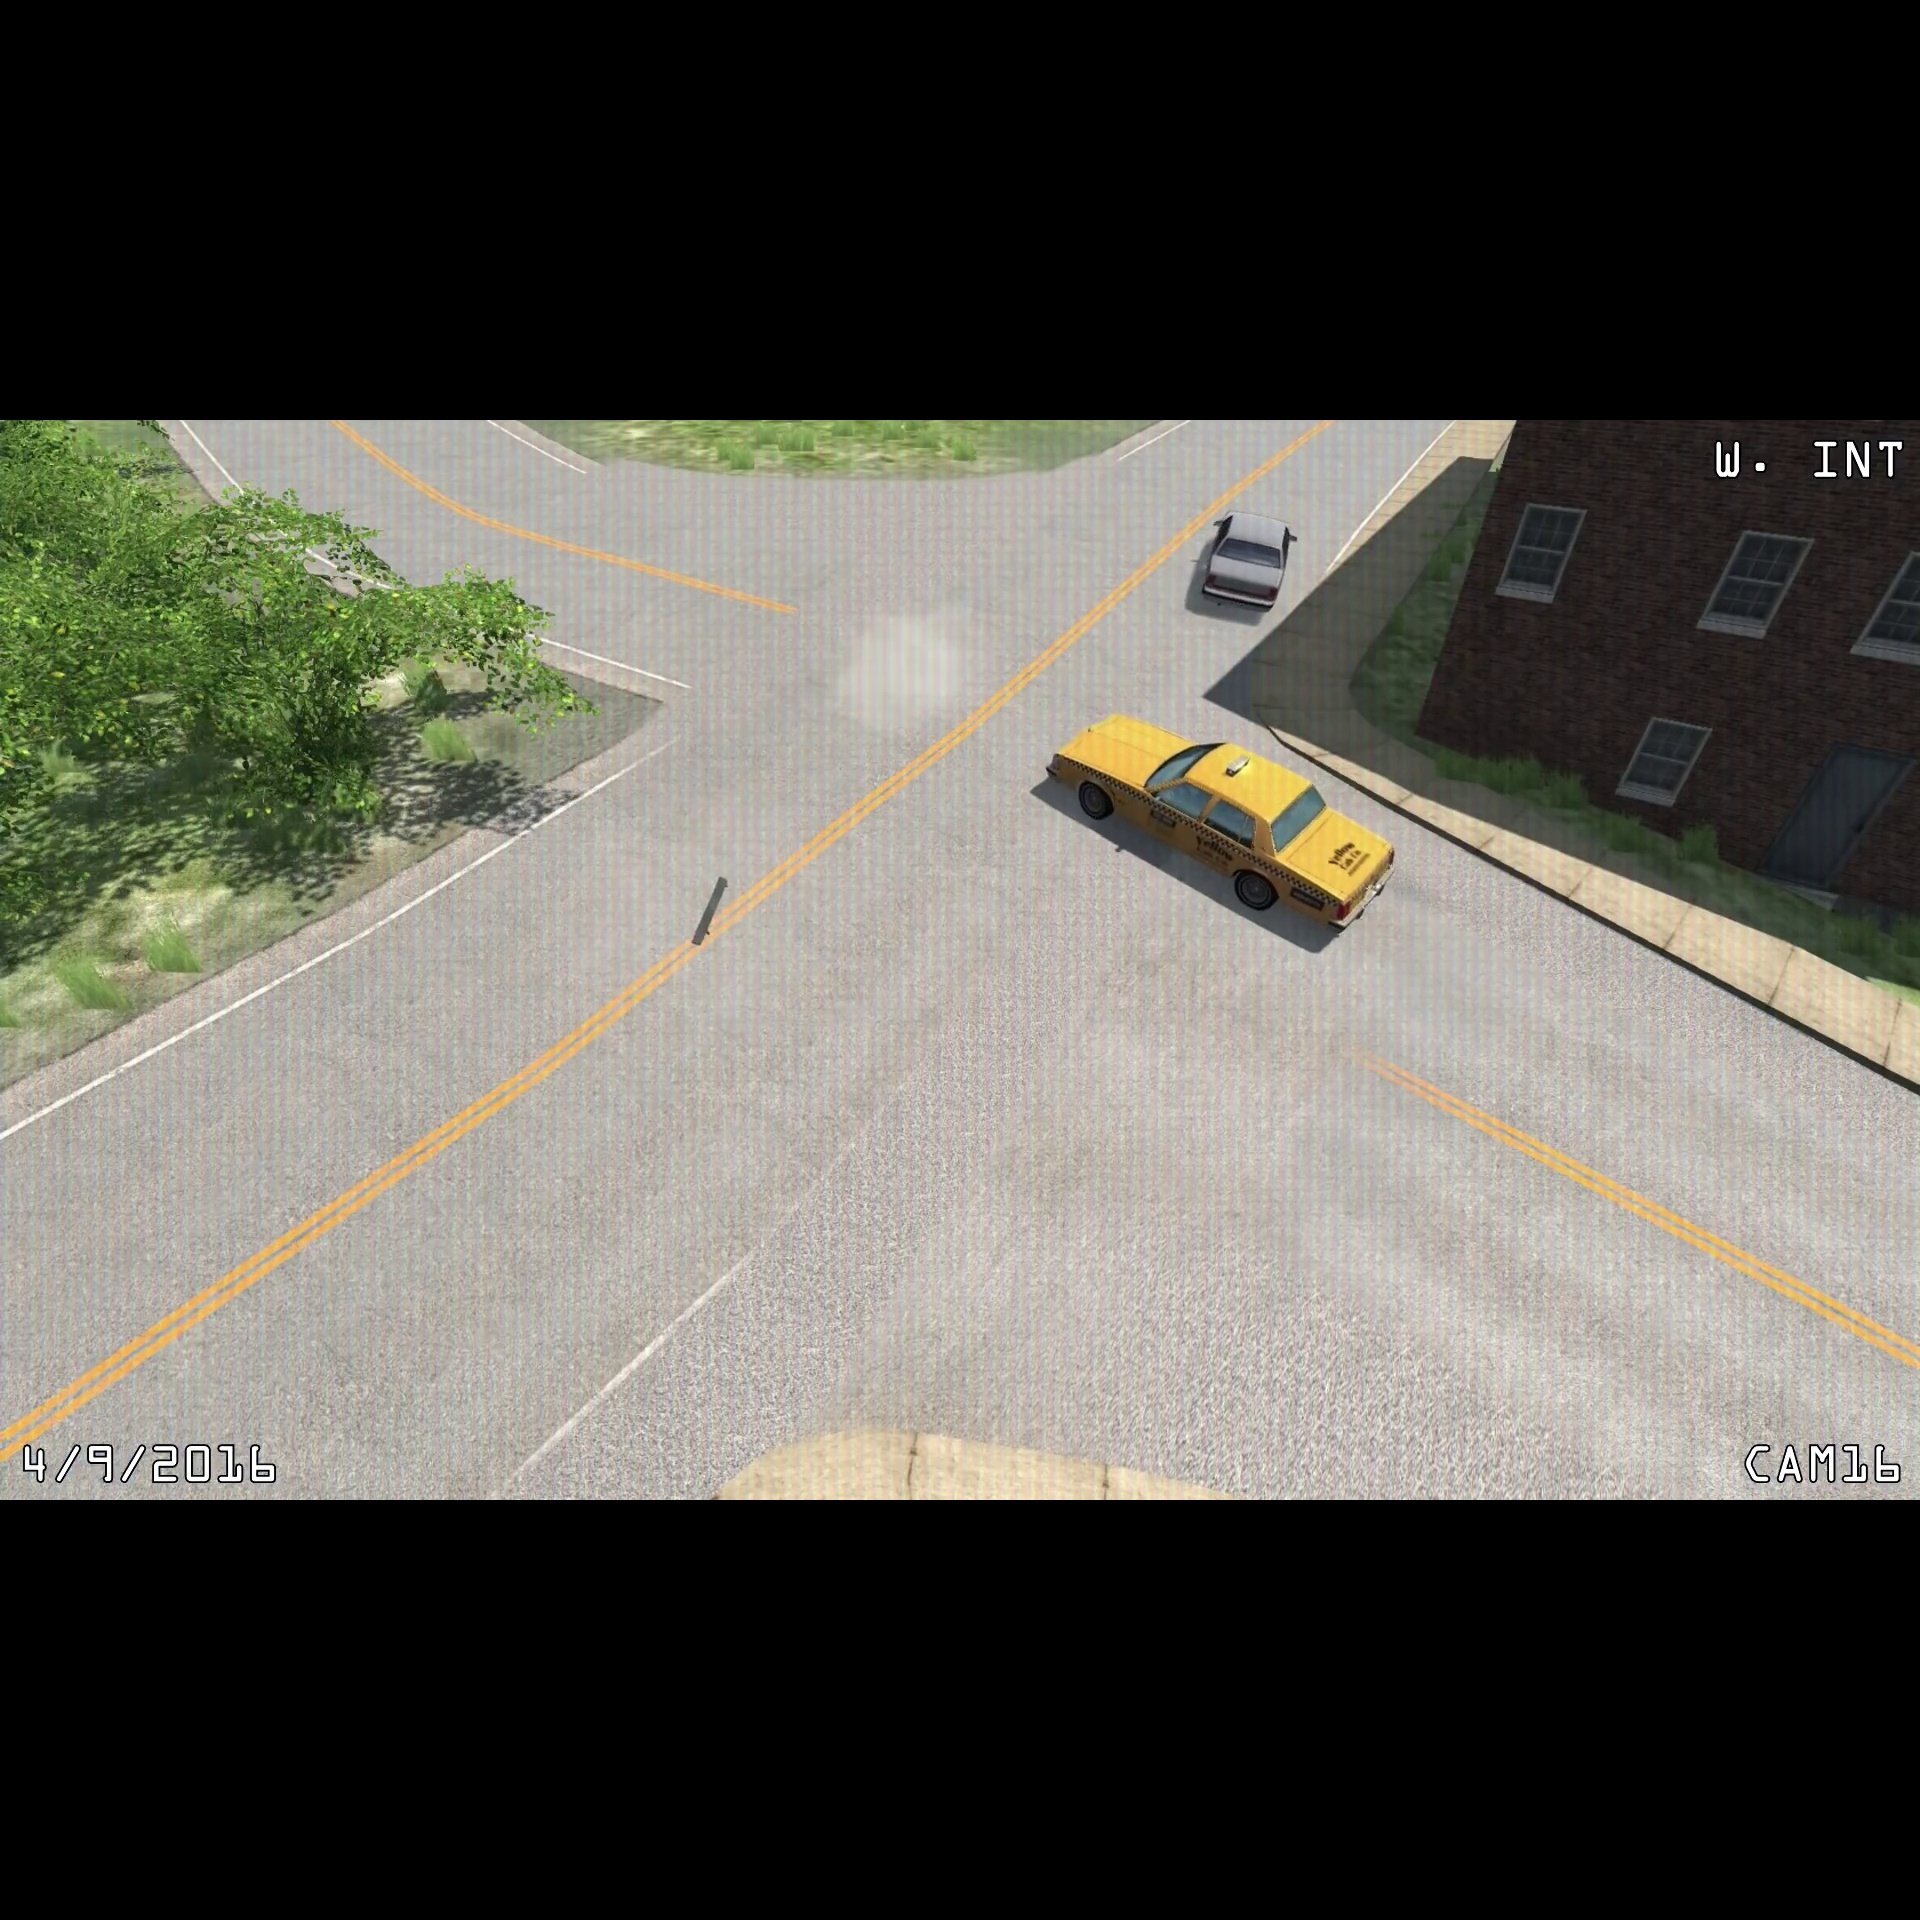vehicle: (1039, 702, 1405, 935), (1189, 501, 1305, 622)
